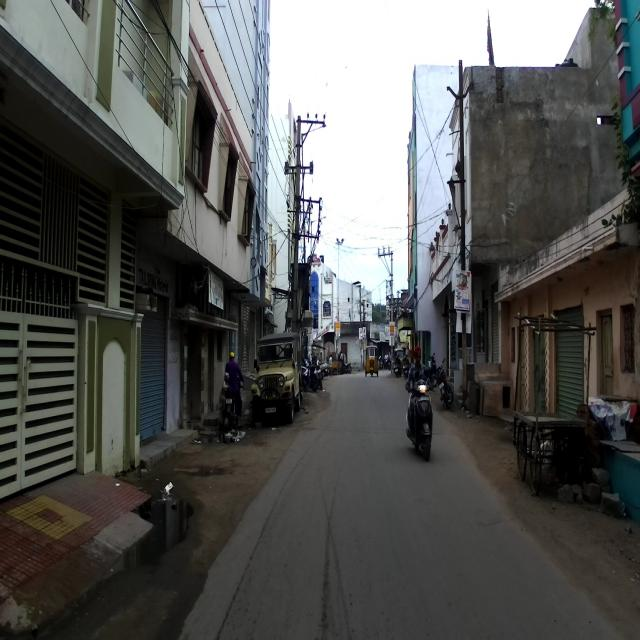scooter: (406, 380, 435, 460)
